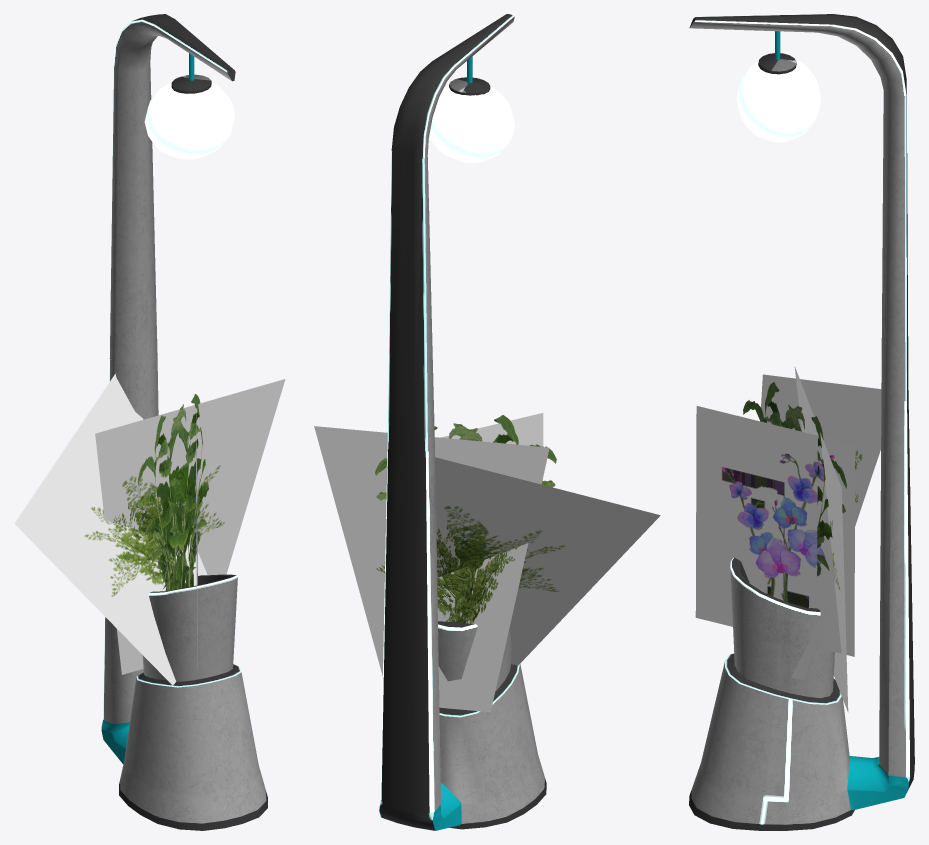
The model's file is Lamparamaceta.fbx.
The picture shows the model from 3 angles, left to right: view 1: azimuth 30°, elevation 25°; view 2: azimuth 150°, elevation 25°; view 3: azimuth 270°, elevation 25°; orthographic projection. The views are drawn at different scales.
Visible parts, largest first — view 1: Lamparamaceta; view 2: Lamparamaceta; view 3: Lamparamaceta.
Part boxes in pixels (<box>): Lamparamaceta: <box>14,14,285,830</box>; Lamparamaceta: <box>314,14,660,830</box>; Lamparamaceta: <box>689,14,914,830</box>.
Size of the model in its own units: 76.45 by 178 by 46.56.
4 materials, 4 textured.
